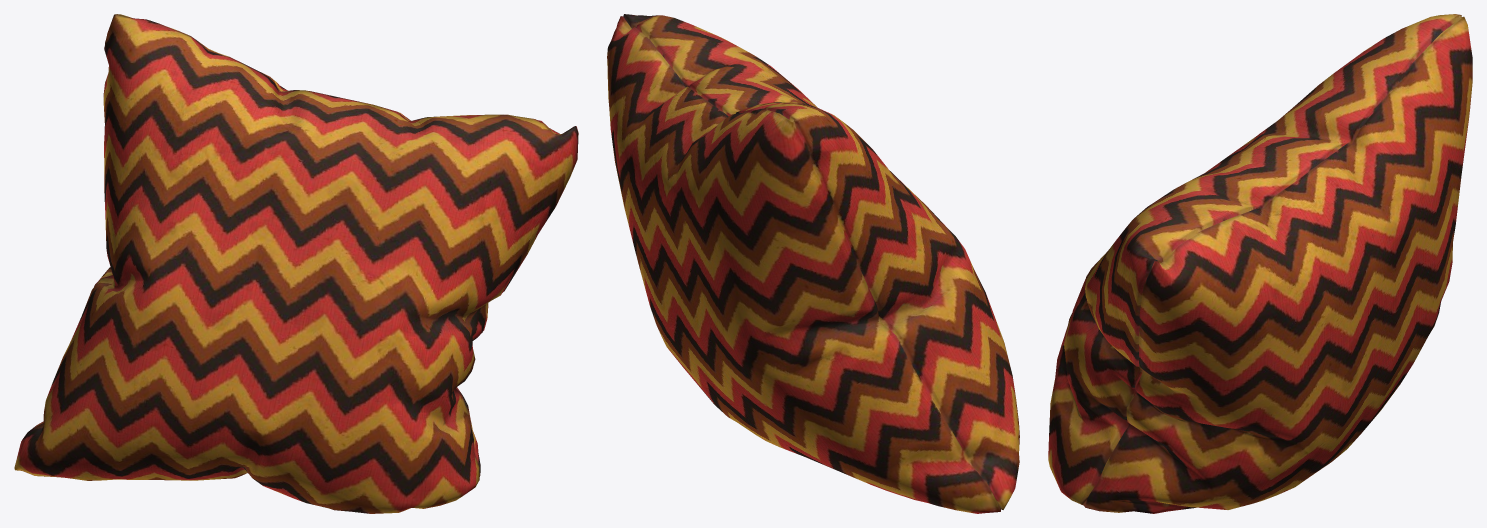
Rendered from pillow2.glb.
3 renders of one model, left to right at view 1: azimuth 30°, elevation 25°; view 2: azimuth 150°, elevation 25°; view 3: azimuth 270°, elevation 25°, orthographic. The views are drawn at different scales.
Visible parts, largest first — view 1: throw_pillows_01_pillow01; view 2: throw_pillows_01_pillow01; view 3: throw_pillows_01_pillow01.
Part boxes in pixels (box(x1,y1,x2,y2)): throw_pillows_01_pillow01: box(14, 14, 578, 513); throw_pillows_01_pillow01: box(607, 14, 1019, 513); throw_pillows_01_pillow01: box(1048, 14, 1472, 513).
Bounding box in the file's own units: 0.572 × 0.4502 × 0.4267.
Materials: 1 (1 with a texture image).
